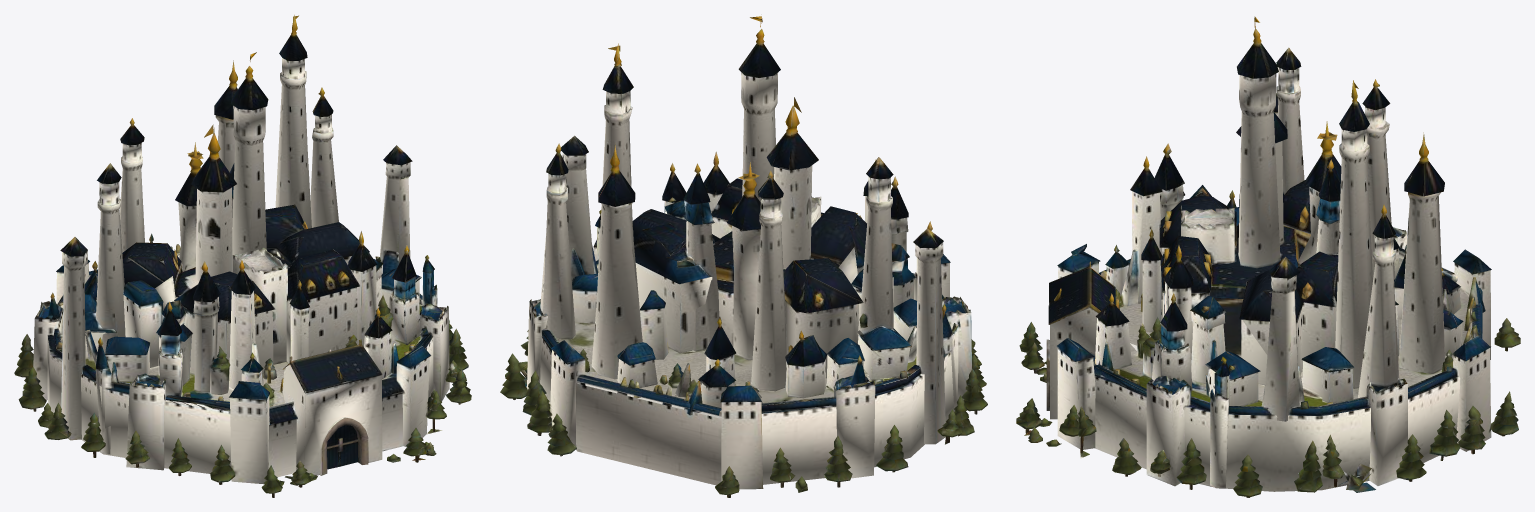
Rendered from citta.glb.
3 renders of one model, left to right at view 1: azimuth 30°, elevation 25°; view 2: azimuth 150°, elevation 25°; view 3: azimuth 270°, elevation 25°, orthographic. The views are drawn at different scales.
Size of the model in its own units: 0.9575 by 0.8013 by 0.9385.
1 material, 1 textured.
